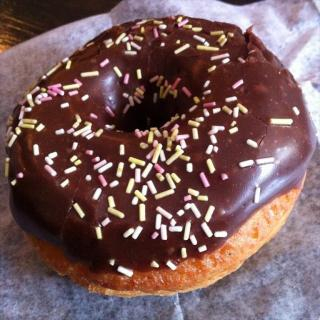Doughnut: (4, 13, 318, 299)
